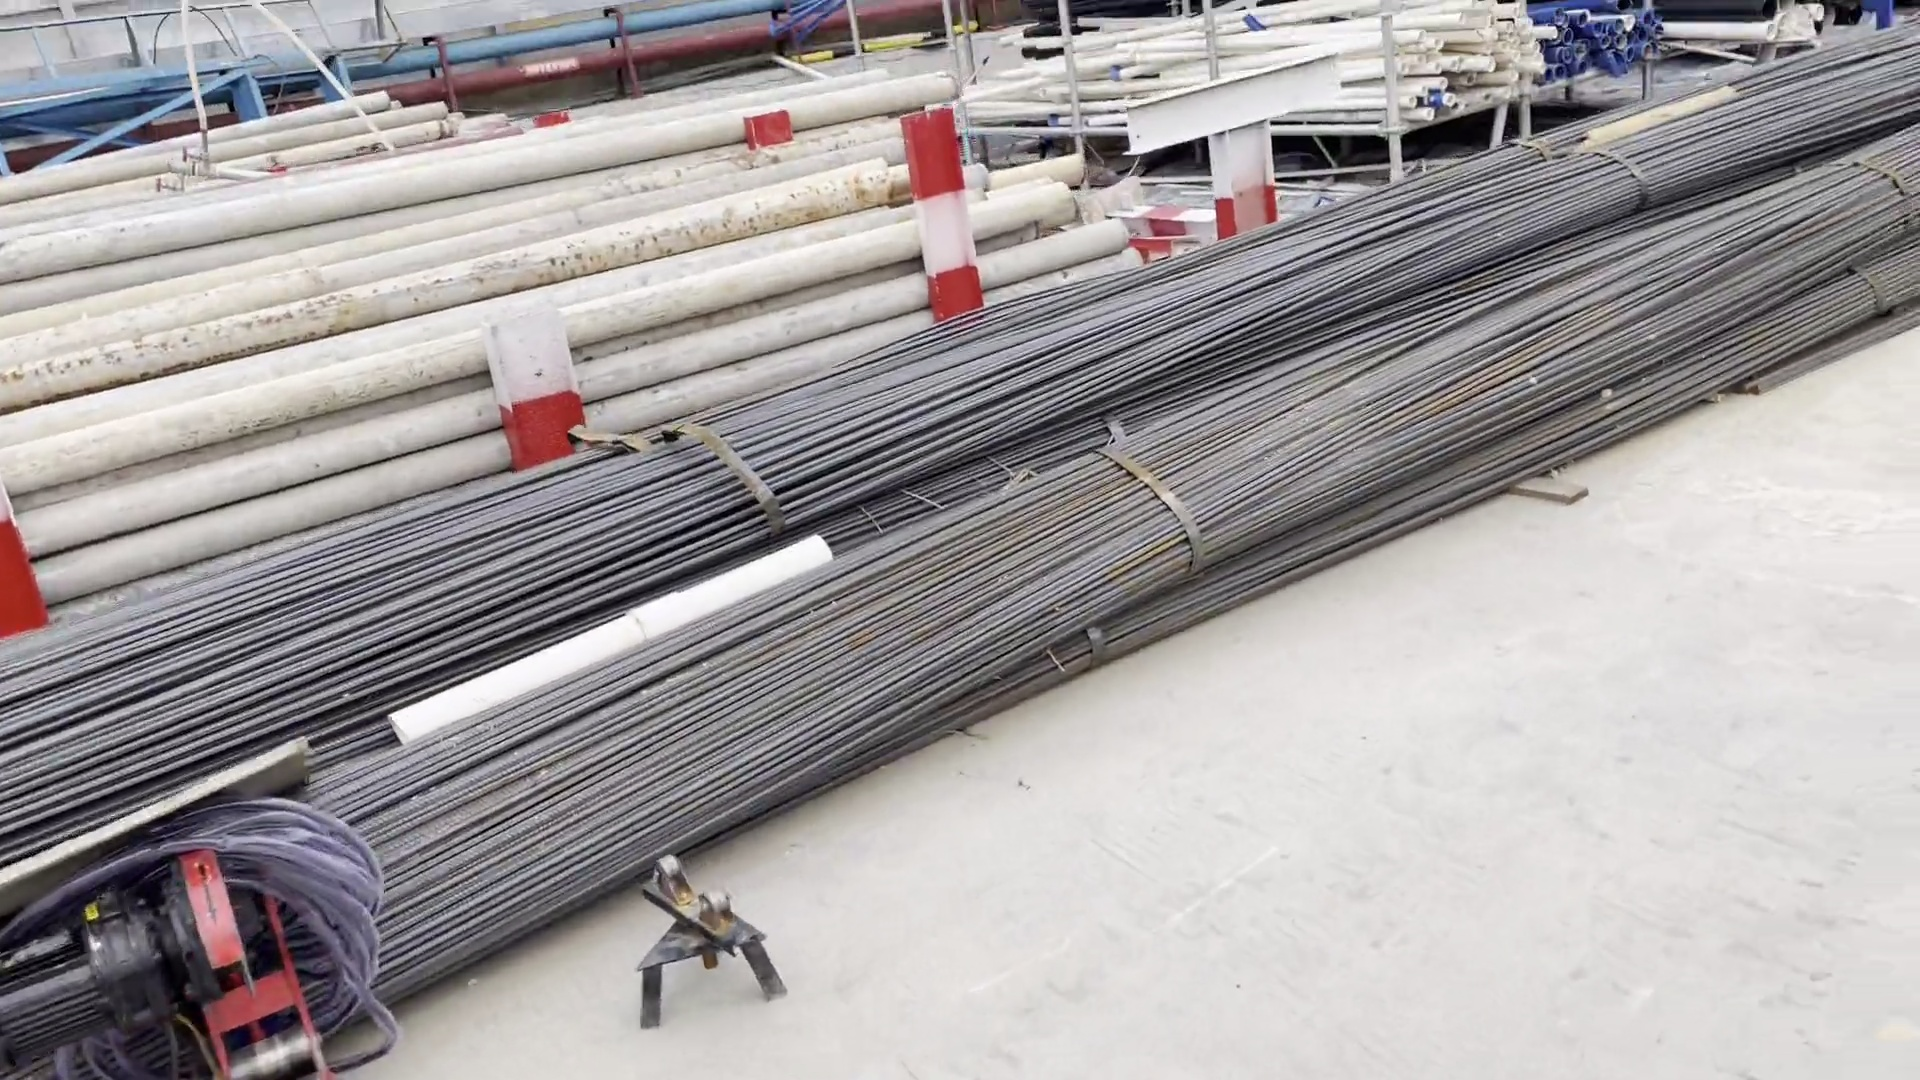rebar: (4, 480, 822, 964), (1117, 116, 1731, 622), (735, 305, 1191, 791), (1611, 8, 1920, 471)
